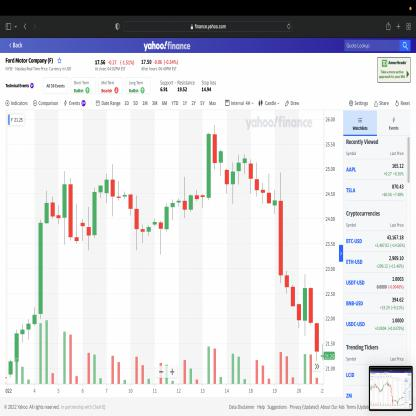Bearish: 3 Black Crows: (278, 168, 296, 311), (284, 266, 302, 332)
Bearish: Tweezer Top: (302, 271, 314, 338)
